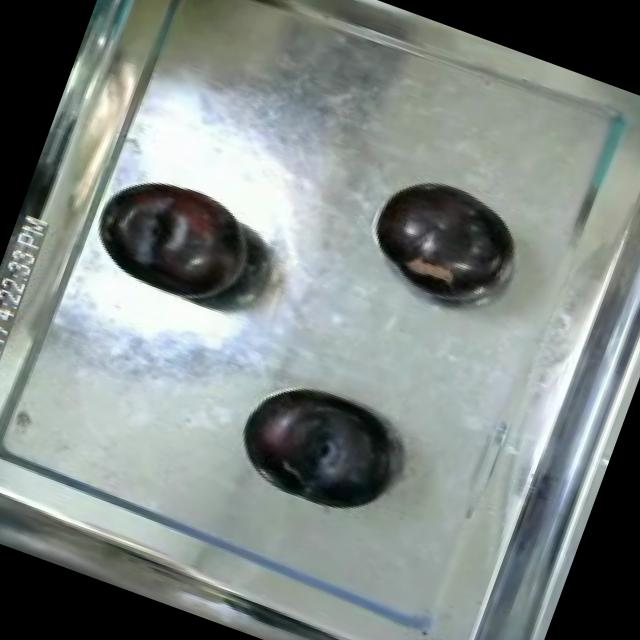Fruit: (219, 366, 415, 532), (80, 160, 266, 320), (353, 161, 527, 315)
